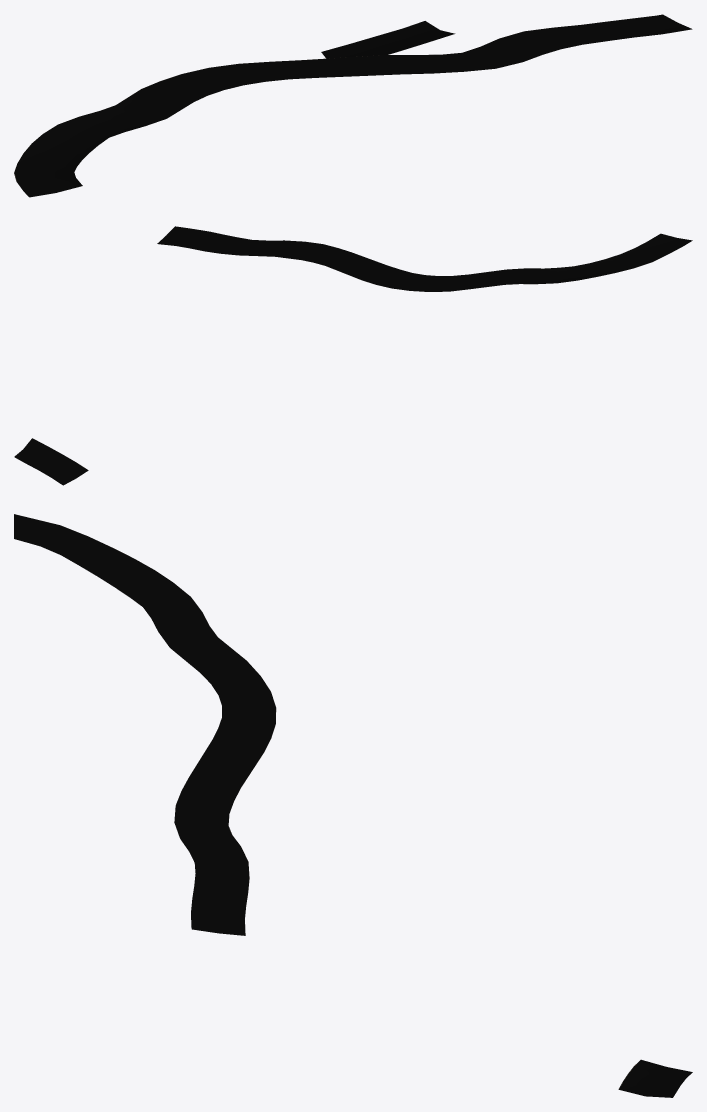
Rendered from Tide_GenerateSurfaceDecal_E7A6EF5F_0_FlowDecal_SmallMesh_Mesh_x9_y5_149_0_ATLAS.fbx.
3 views of the same model, one above another, from view 1: azimuth 30°, elevation 25°; view 2: azimuth 150°, elevation 25°; view 3: azimuth 270°, elevation 25° (orthographic). The views are drawn at different scales.
Parts seen in each view (by area): view 1: Tide_GenerateSurfaceDecal_E7A6EF5F_0_FlowDecal_SmallMesh_Mes; view 2: Tide_GenerateSurfaceDecal_E7A6EF5F_0_FlowDecal_SmallMesh_Mes; view 3: Tide_GenerateSurfaceDecal_E7A6EF5F_0_FlowDecal_SmallMesh_Mes.
Boxes of the visible parts, x1,y1,x2,y2 form: Tide_GenerateSurfaceDecal_E7A6EF5F_0_FlowDecal_SmallMesh_Mes: (14, 14, 692, 197); Tide_GenerateSurfaceDecal_E7A6EF5F_0_FlowDecal_SmallMesh_Mes: (14, 226, 692, 485); Tide_GenerateSurfaceDecal_E7A6EF5F_0_FlowDecal_SmallMesh_Mes: (14, 514, 692, 1097).
Size of the model in its own units: 2927 by 2512 by 1080.
